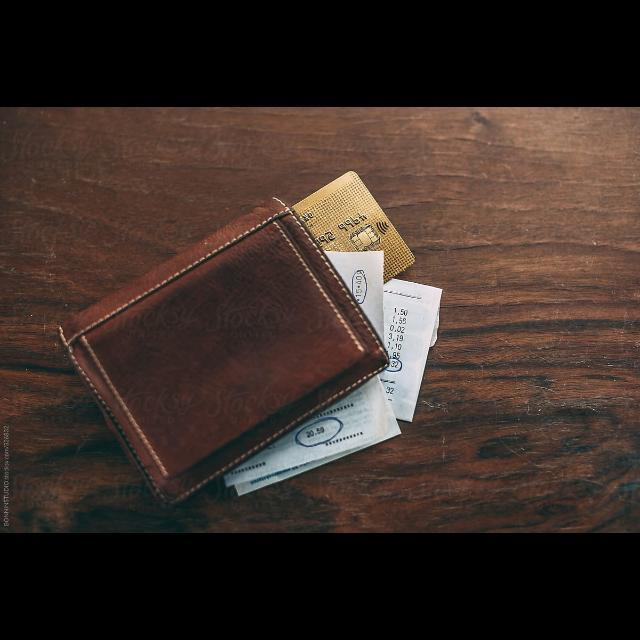wallet: (61, 181, 377, 495)
